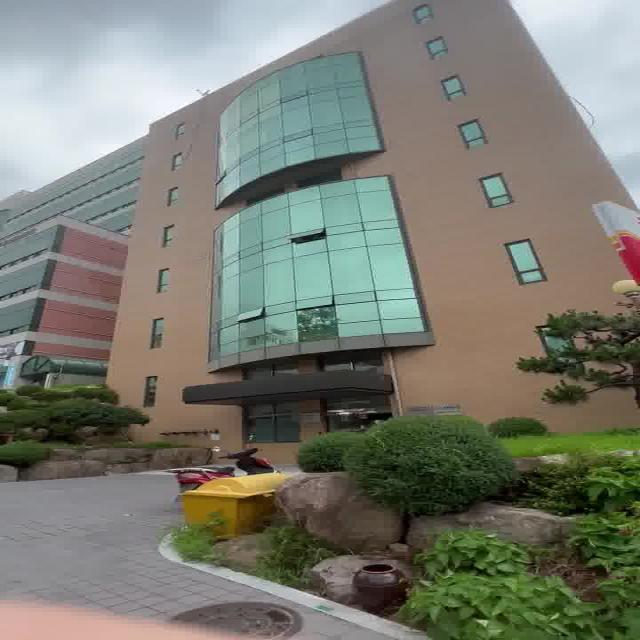building: (151, 62, 485, 405)
